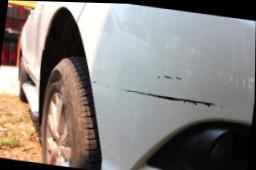Bumper: (83, 48, 245, 119)
